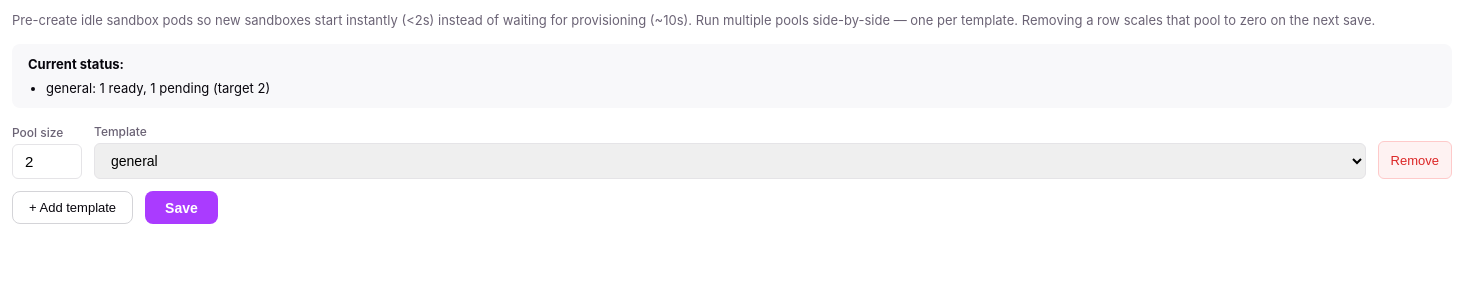
Test: WarmPoolEditor › shows an error message when saving fails
Expected: the element with test id "warm-pool-status" is shown, [12, 44, 1452, 108]
Click the button with test id "pool-save" at (181, 208), box [145, 191, 218, 224]
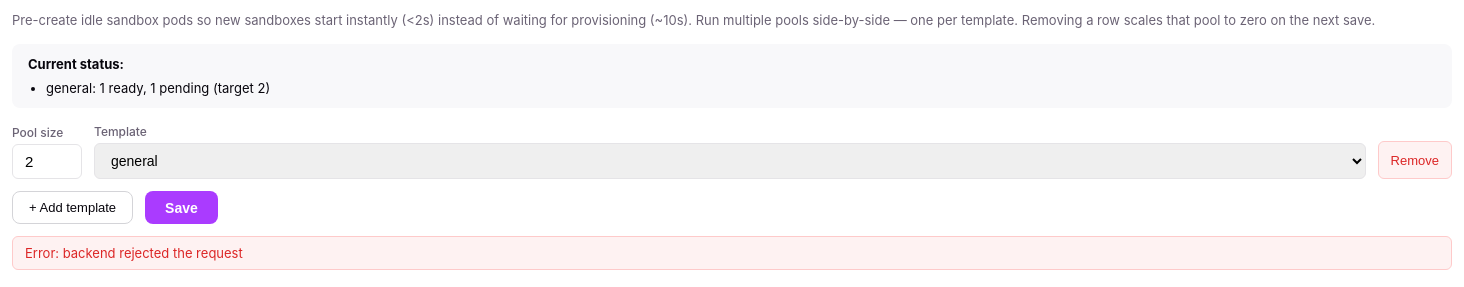
Now the text with test id "warm-pool-message" reads "Error: backend rejected the request", box [25, 245, 243, 261]
